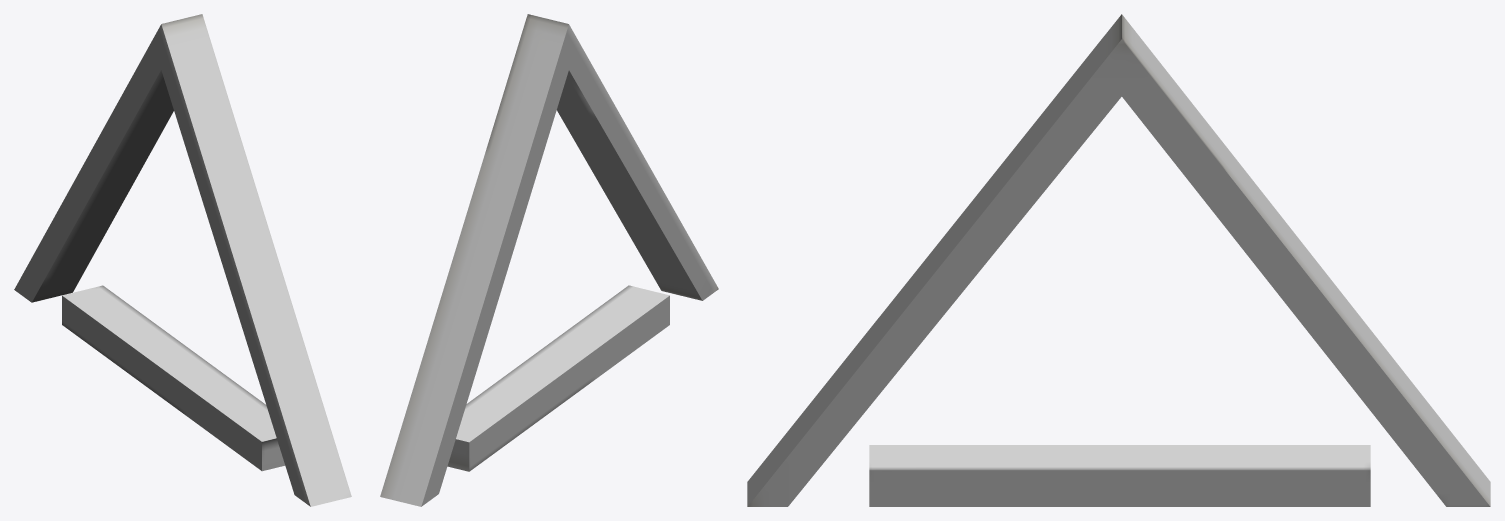
File: trangel.dae
3 renders of one model, left to right at view 1: azimuth 30°, elevation 25°; view 2: azimuth 150°, elevation 25°; view 3: azimuth 270°, elevation 25°, orthographic. The views are drawn at different scales.
Parts seen in each view (by area): view 1: SketchUp_001; view 2: SketchUp_001; view 3: SketchUp_001.
Boxes of the visible parts, box(x1,y1,x2,y2) form: SketchUp_001: box(14, 14, 351, 506); SketchUp_001: box(380, 14, 718, 506); SketchUp_001: box(747, 14, 1490, 506).
Size of the model in its own units: 0.011 by 0.137 by 0.0952.
1 material, 1 textured.
